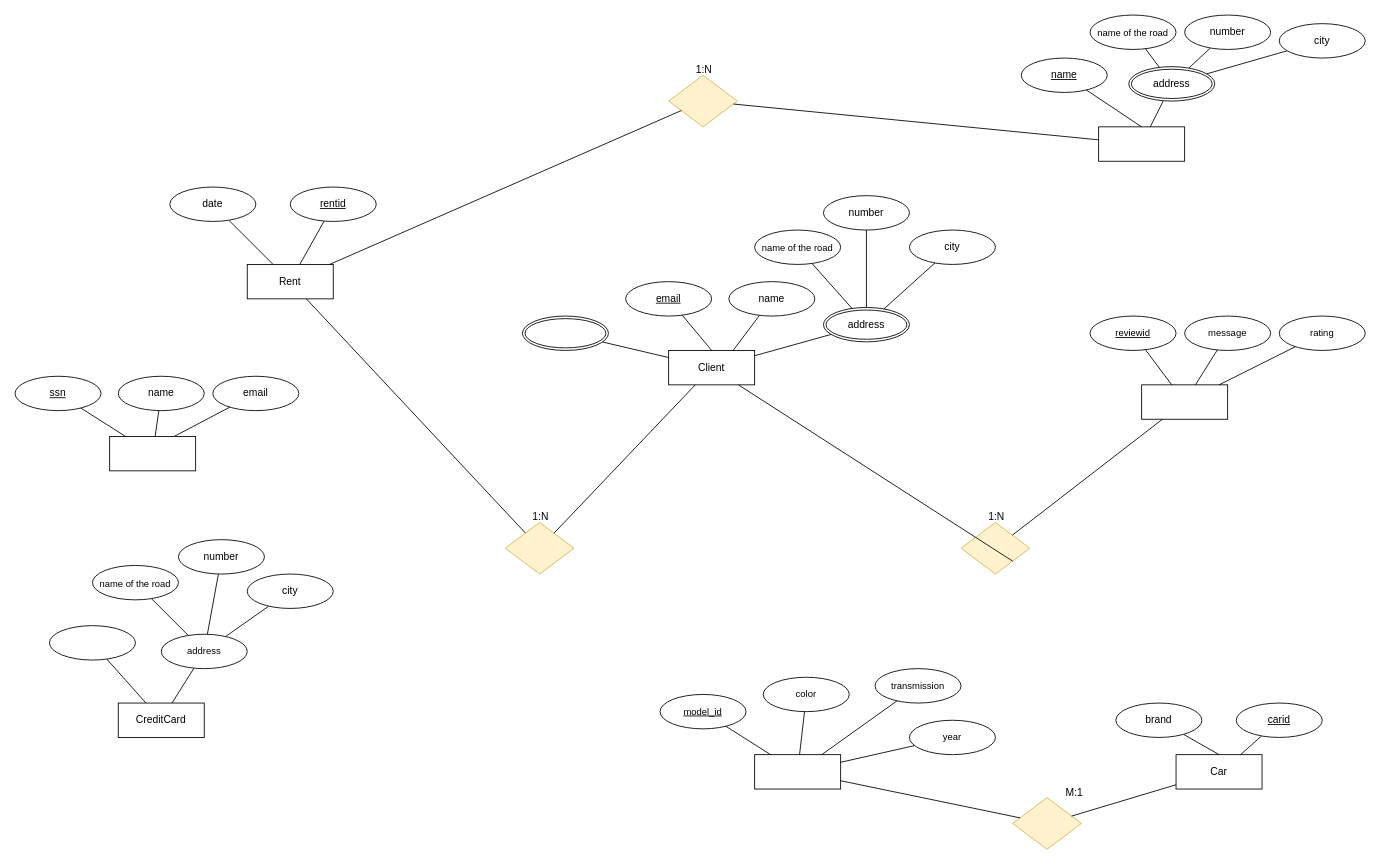
The diagram is 1380 pixels wide and 864 high, and some of its shapes have lost their labels. The centre of each missing label's shape, as x and y in pixels:
credit card: (x=565, y=332)
credit card number: (x=92, y=642)
Driver: (x=1141, y=143)
Drives: (x=702, y=100)
IsOfModel: (x=1046, y=823)
Manager: (x=152, y=453)
Model: (x=797, y=771)
Rents: (x=539, y=548)
Review: (x=1184, y=401)
Writes: (x=995, y=548)
